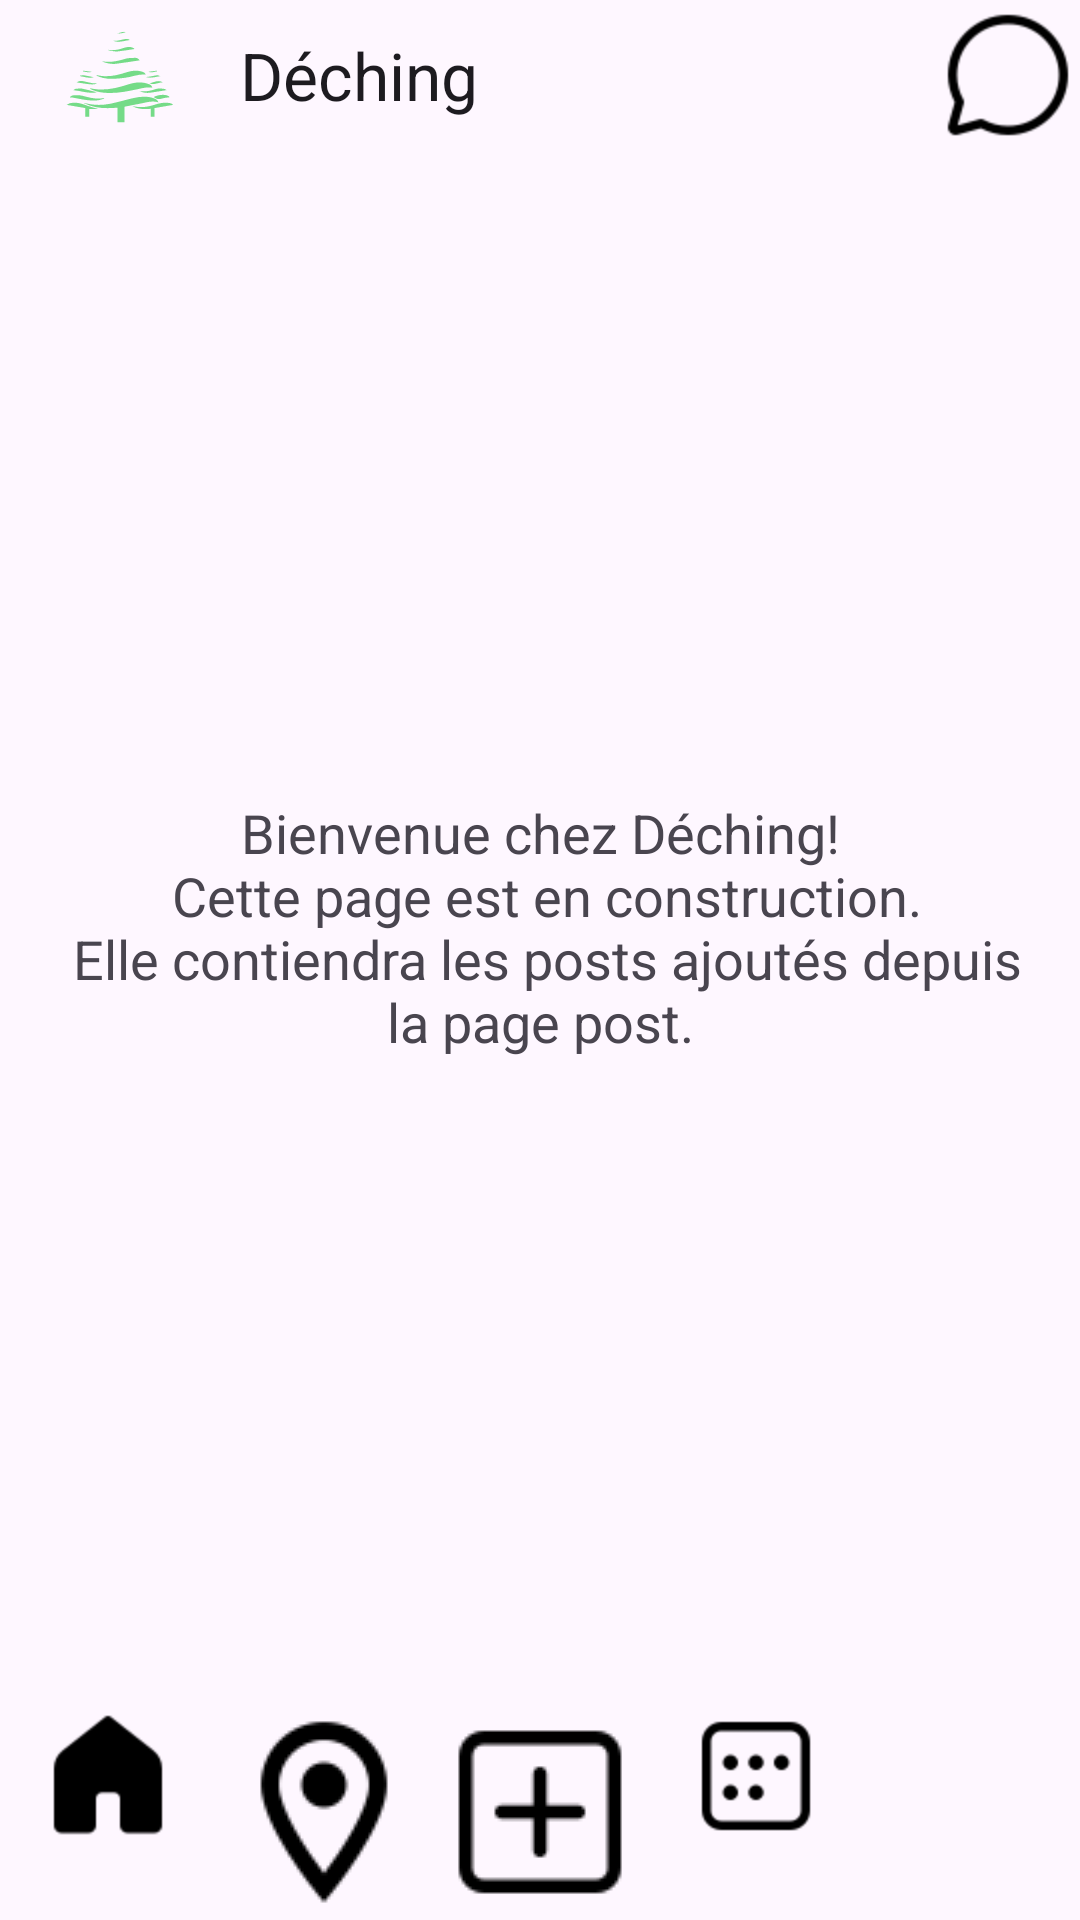

Point at icon controls on the screen. Image size 1080w x 1920h, points as point (x, y).
accueil rempli: point (108, 1775)
add vide: point (540, 1812)
bulle vide: point (1008, 75)
map vide: point (324, 1812)
